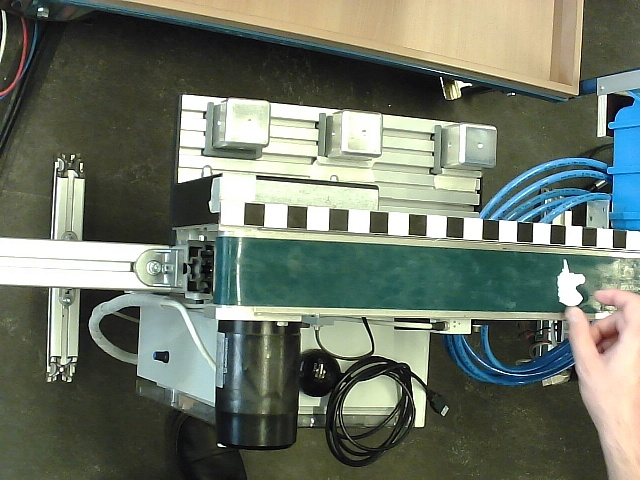unicorn: (555, 258, 585, 306)
